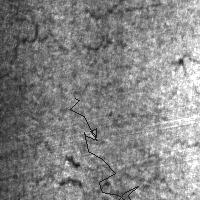crazing: (3, 65, 179, 122), (47, 145, 183, 199), (70, 98, 138, 200), (37, 1, 163, 51), (2, 3, 53, 62)
